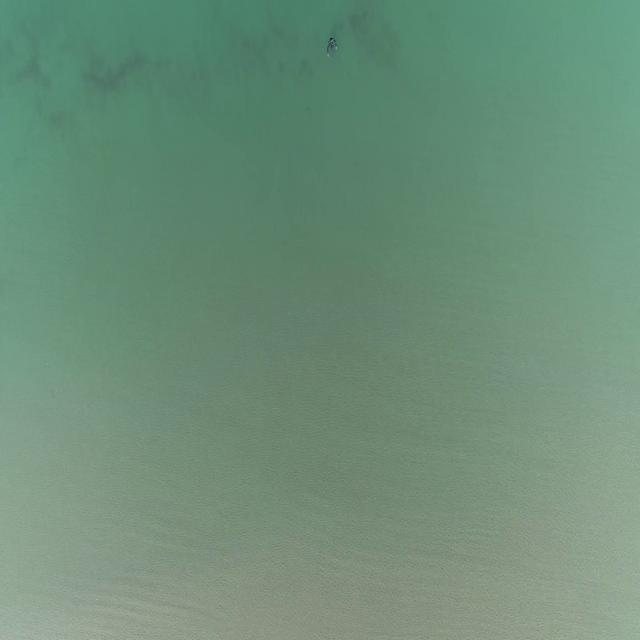person: (326, 36, 339, 56)
